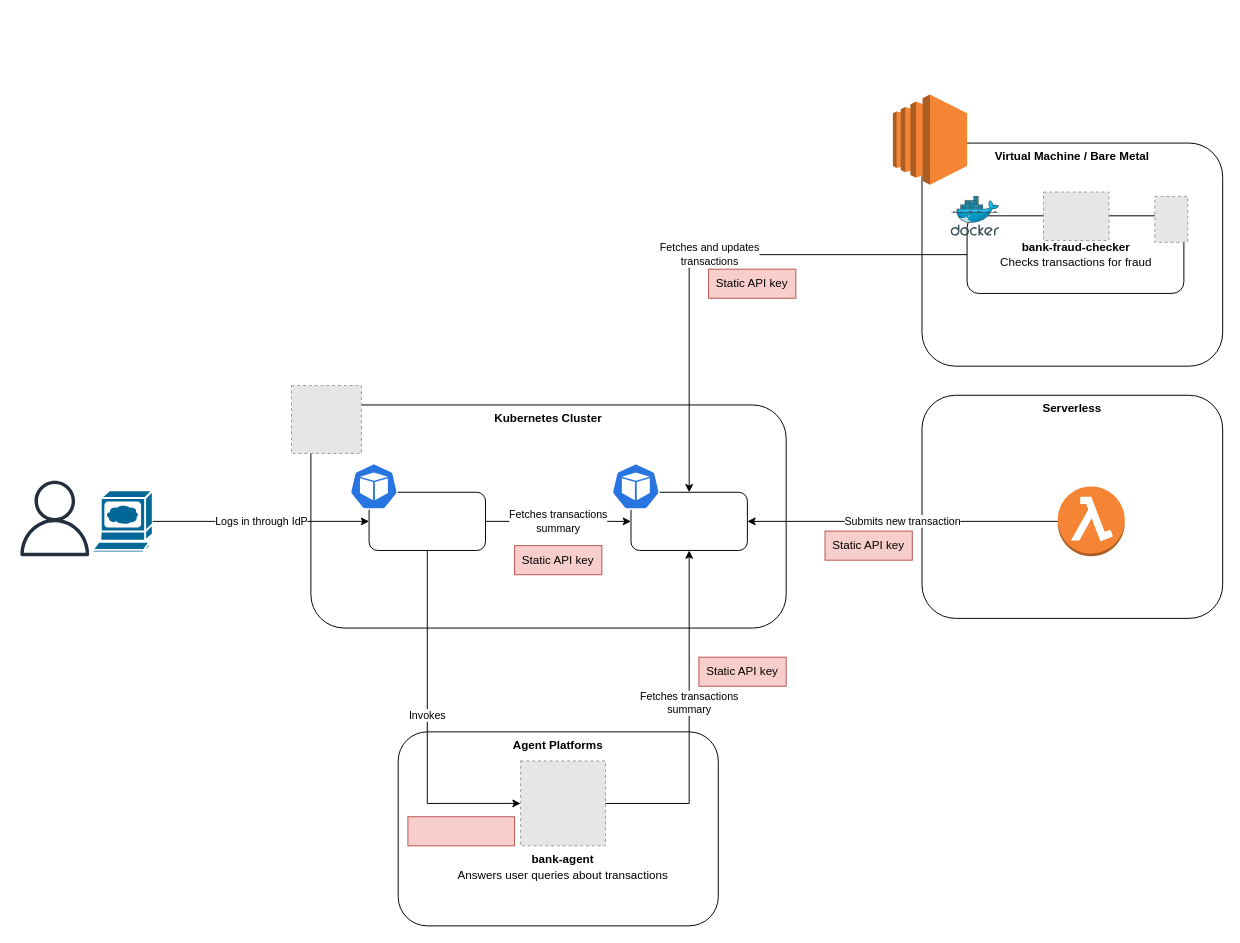
Image size: 1240x943. Some labels were removed from this diagram. Grey dashed boxes stand in for pictures. The shapes that lost their labels are listed below. From the top down, each one's centre as x and y in pixels, then its label:
At (426,520): "bank-client Serves UI".
At (688,520): "bank-server Holds ledger".
At (1091,520): "bank-lambda Submits new transactions".
At (461,831): "Agent can re-use user token".
